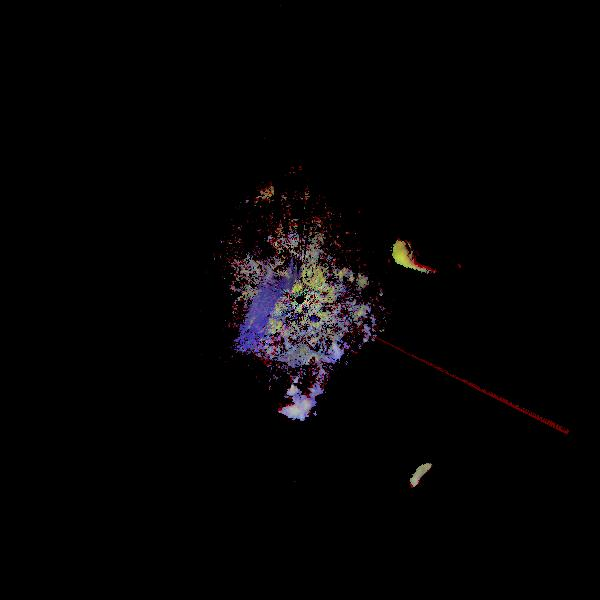roost: (368, 166, 494, 292), (243, 327, 351, 435), (408, 452, 474, 518)
